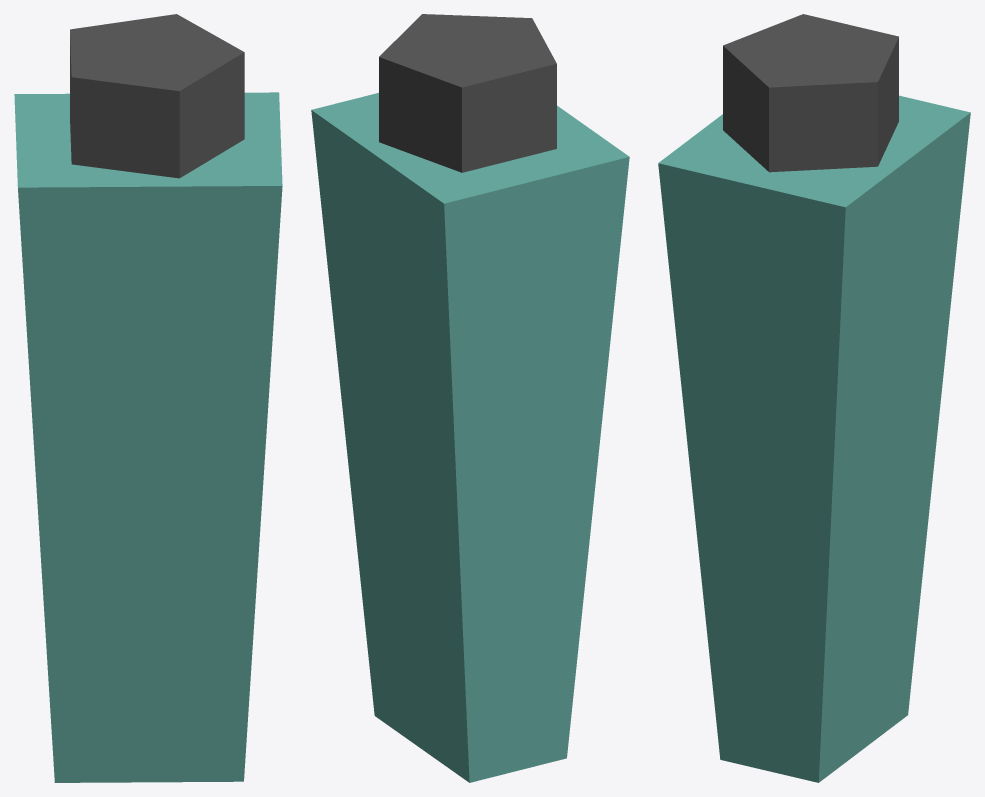
File: Office2_vial_1.fbx
The picture shows the model from 3 angles, left to right: view 1: azimuth 30°, elevation 25°; view 2: azimuth 150°, elevation 25°; view 3: azimuth 270°, elevation 25°; orthographic projection. The views are drawn at different scales.
Parts seen in each view (by area): view 1: Office2_vial_1; view 2: Office2_vial_1; view 3: Office2_vial_1.
Boxes of the visible parts, left/top/right/bottom form: Office2_vial_1: left=14, top=14, right=282, bottom=782; Office2_vial_1: left=311, top=14, right=629, bottom=782; Office2_vial_1: left=658, top=14, right=970, bottom=782.
Bounding box in the file's own units: 11.44 × 10.87 × 26.26.
